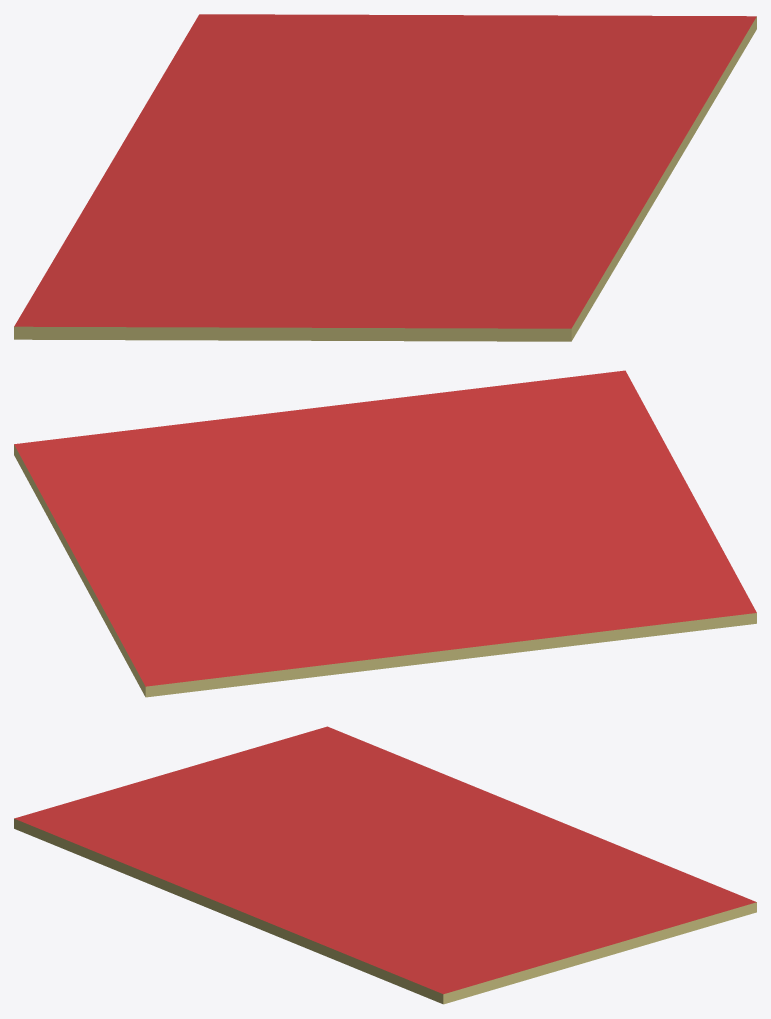
The picture shows the model from 3 angles, top to bottom: view 1: azimuth 30°, elevation 25°; view 2: azimuth 150°, elevation 25°; view 3: azimuth 270°, elevation 25°; orthographic projection. The views are drawn at different scales.
Size of the model in its own units: 6.57 by 6.6 by 0.539.
